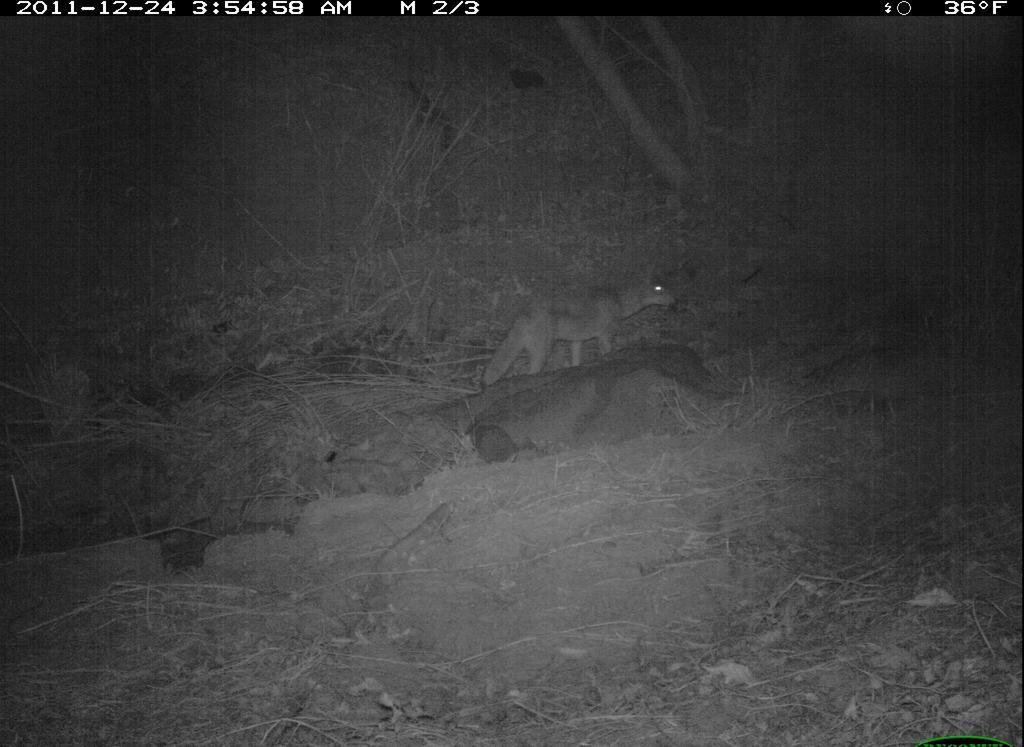coyote: (481, 258, 685, 392)
